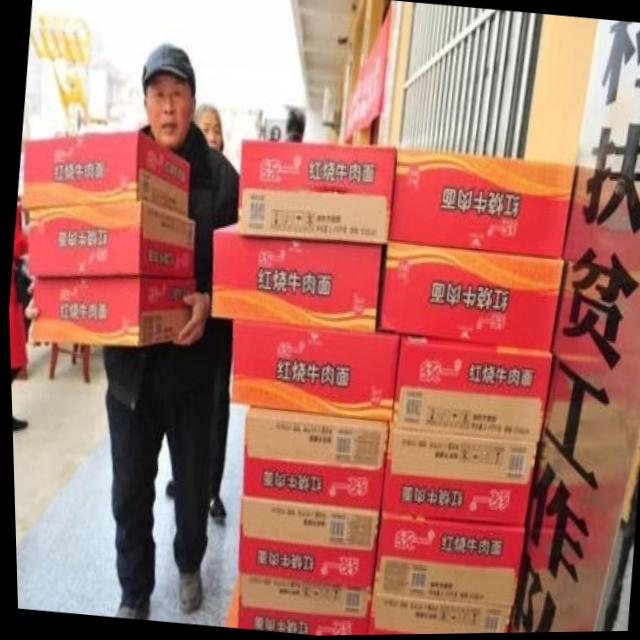box: (388, 150, 576, 259), (377, 246, 562, 352), (209, 222, 381, 334), (227, 321, 397, 424), (389, 335, 549, 444), (379, 425, 534, 529), (236, 142, 395, 242), (239, 407, 385, 512), (20, 132, 190, 219), (368, 513, 520, 608), (25, 201, 195, 281), (235, 499, 376, 592), (28, 273, 193, 346), (234, 576, 366, 636), (364, 596, 506, 636)
